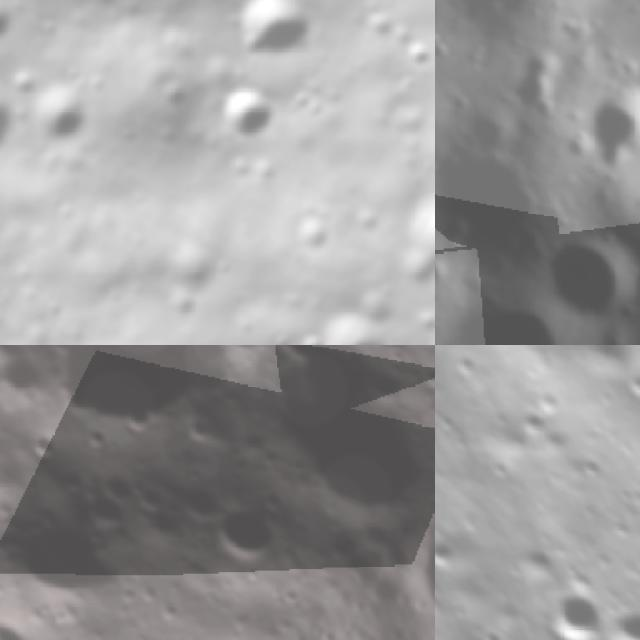crater: (237, 345, 435, 561), (6, 345, 272, 483), (0, 487, 132, 633), (435, 137, 566, 257), (532, 225, 640, 320), (193, 486, 292, 584), (214, 0, 316, 77), (435, 295, 586, 345), (381, 179, 435, 308), (22, 76, 101, 152), (536, 572, 624, 640), (585, 79, 640, 162), (128, 495, 192, 560), (209, 80, 273, 144), (309, 305, 403, 345), (522, 54, 572, 117), (91, 459, 146, 515), (587, 587, 640, 640), (288, 210, 337, 257), (435, 525, 467, 582), (179, 411, 221, 453), (153, 71, 195, 111), (26, 426, 62, 464), (79, 421, 115, 457), (435, 395, 452, 468), (103, 630, 227, 640), (394, 36, 429, 71), (0, 0, 23, 51), (37, 296, 66, 320), (292, 328, 323, 345), (208, 638, 257, 640)
